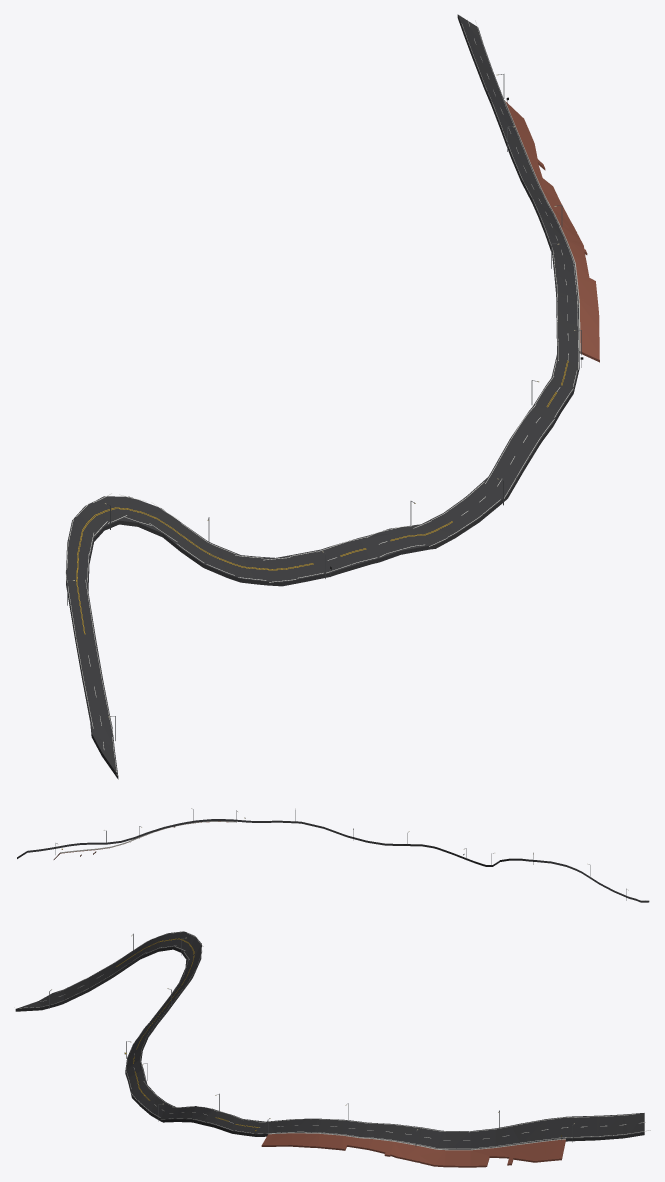
3 views of the same model, one above another, from view 1: azimuth 30°, elevation 25°; view 2: azimuth 150°, elevation 25°; view 3: azimuth 270°, elevation 25° (orthographic). The views are drawn at different scales.
Size of the model in its own units: 258 by 72.83 by 251.
